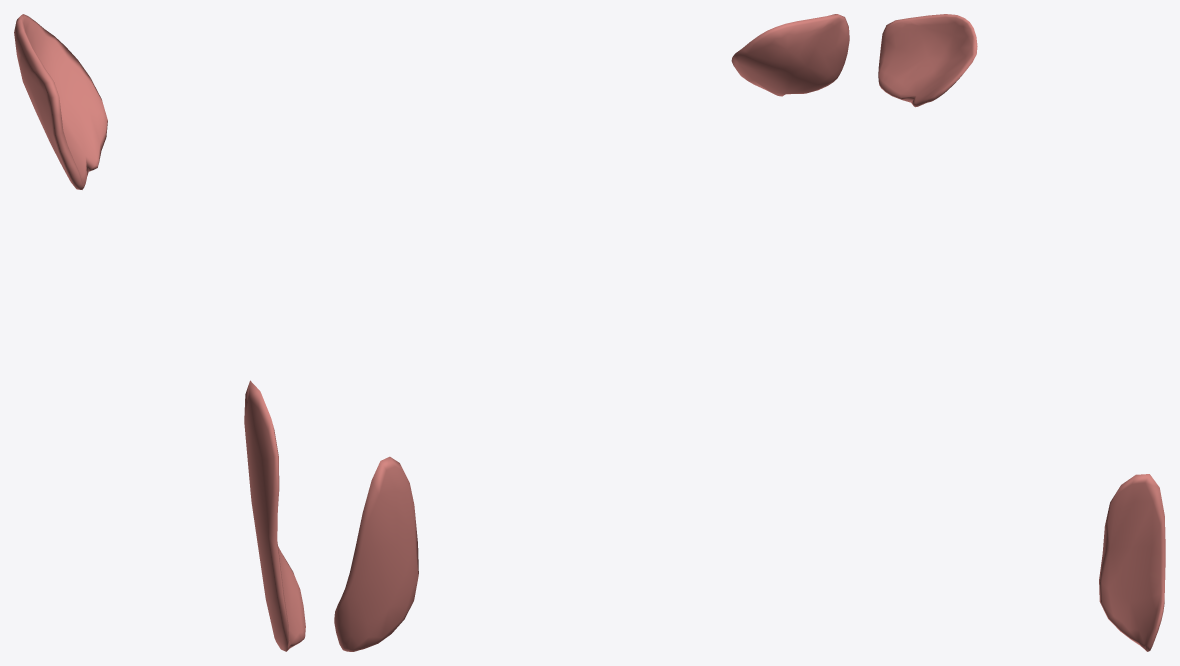
3 views of the same model, side by side, from view 1: azimuth 30°, elevation 25°; view 2: azimuth 150°, elevation 25°; view 3: azimuth 270°, elevation 25° (orthographic). The views are drawn at different scales.
Parts seen in each view (by area): view 1: ZA_9b25b839a8bf7b86; view 2: ZA_9b25b839a8bf7b86; view 3: ZA_9b25b839a8bf7b86.
Part boxes in pixels (<box>): ZA_9b25b839a8bf7b86: <box>14,14,305,651</box>; ZA_9b25b839a8bf7b86: <box>334,14,849,651</box>; ZA_9b25b839a8bf7b86: <box>878,14,1165,651</box>.
Size of the model in its own units: 0.024 by 0.0408 by 0.0209.
